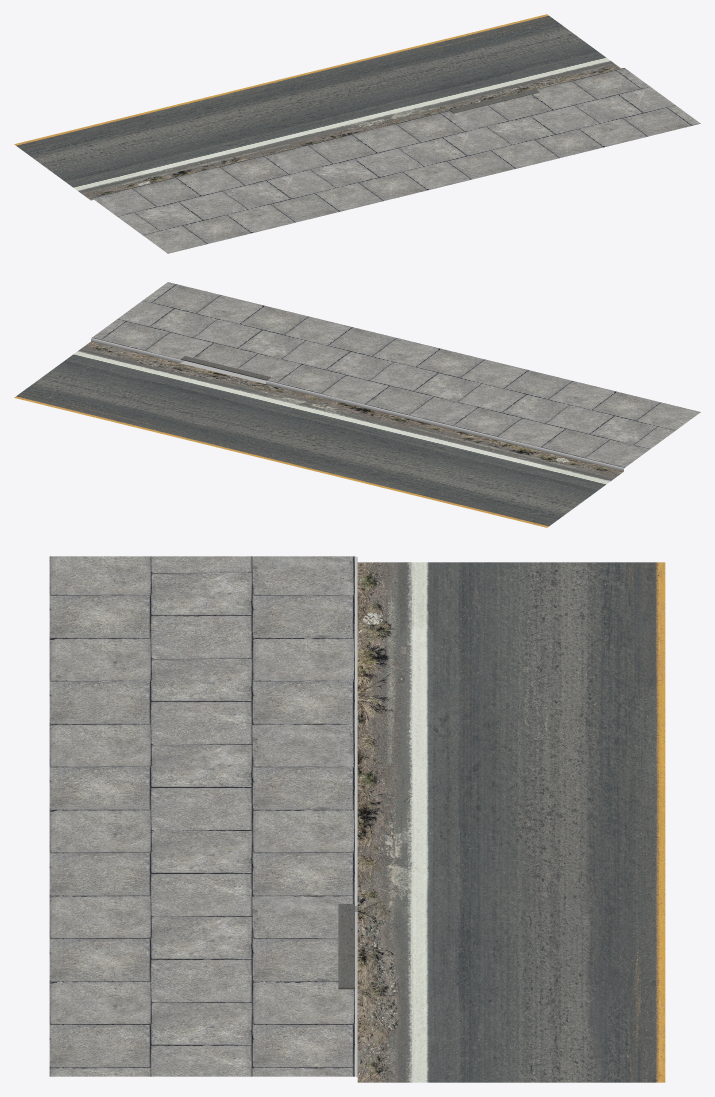
File: StraightRoadShortStormDrain.FBX
3 views of the same model, one above another, from view 1: azimuth 30°, elevation 25°; view 2: azimuth 150°, elevation 25°; view 3: azimuth 270°, elevation 25° (orthographic). The views are drawn at different scales.
Parts seen in each view (by area): view 1: Plane051; view 2: Plane051; view 3: Plane051.
Boxes of the visible parts, x1,y1,x2,y2 form: Plane051: (14, 14, 700, 253); Plane051: (14, 282, 700, 527); Plane051: (49, 556, 665, 1082).
Size of the model in its own units: 1230 by 10.78 by 615.
